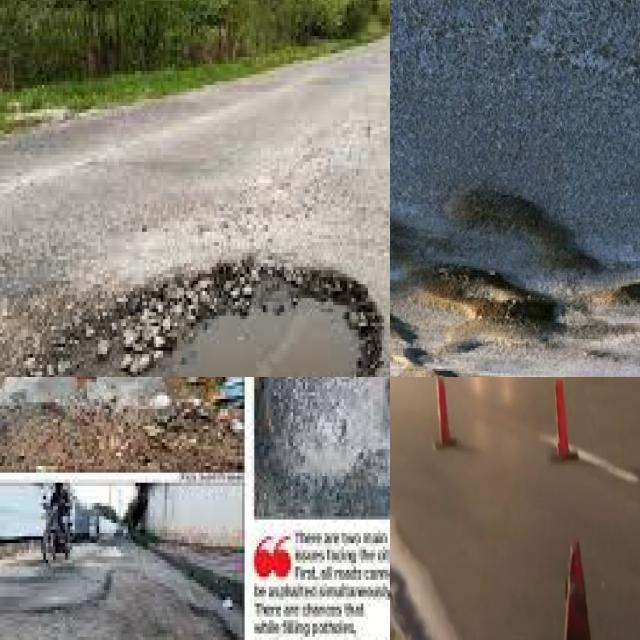Pothole: (248, 377, 390, 640), (441, 189, 613, 286), (410, 266, 566, 352), (446, 188, 602, 271), (390, 313, 458, 377), (445, 338, 484, 353), (617, 283, 640, 303), (586, 350, 612, 358)
